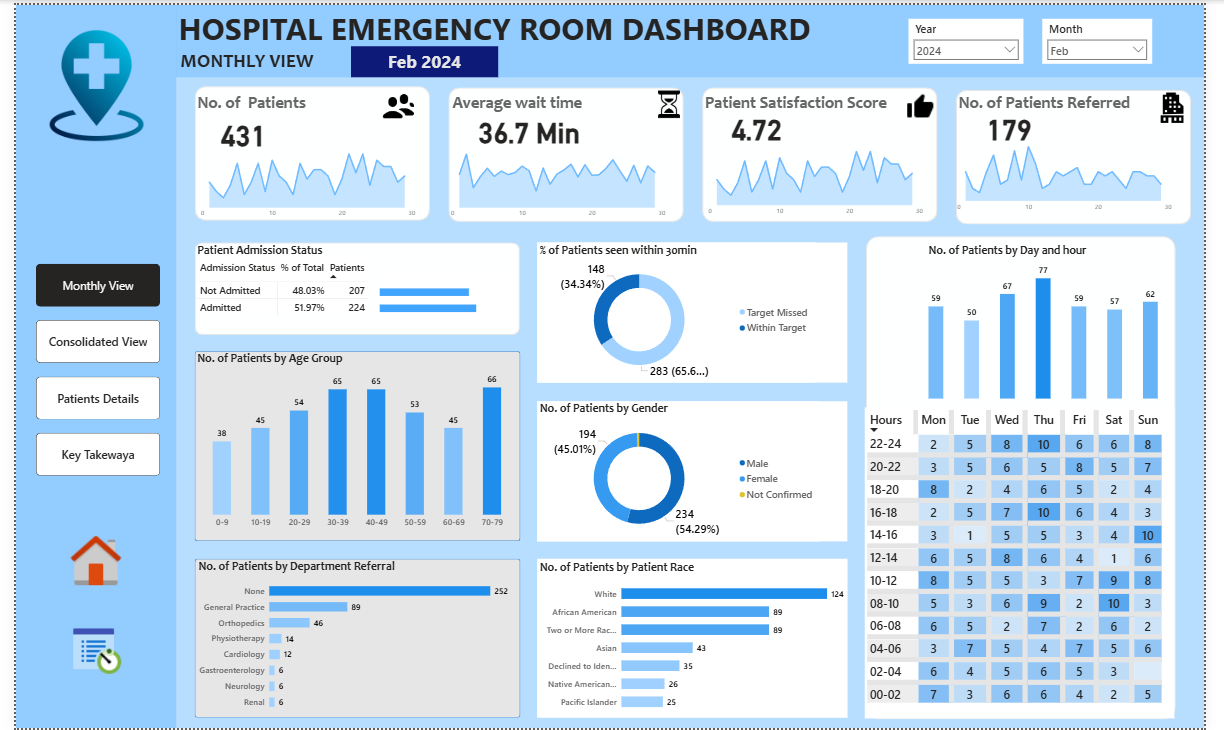

What the dashboard file says about the page in this screenshot:
{"tool":"powerbi","page":{"name":"Monthly View","canvas":[2300,1400],"ordinal":0},"visuals":[{"type":"shape","box":[0,0,310,1400.5],"z":0},{"type":"shape","box":[309.6,0,1990.7,140],"z":1000},{"type":"textbox","box":[309.6,0,1990.7,140.3],"z":2000},{"type":"textbox","box":[309.6,79.8,287.8,60.5],"z":3000},{"type":"shape","box":[345,157.5,455,260],"z":4000},{"type":"card","fields":{"Values":["Hospital ER_Data.No. of Patients"]},"box":[265,115,347.5,260],"z":5000},{"type":"slicer","fields":{"Values":["Date Table.Year"]},"box":[1727.5,27.5,222.5,87.5],"z":6000},{"type":"slicer","fields":{"Values":["Date Table.Month"]},"box":[1985,27.5,212.5,87.5],"z":7000},{"type":"textbox","box":[345,165,302.5,110],"z":8000},{"type":"areaChart","fields":{"Category":["Date Table.Date.Variation.Date Hierarchy.Day"],"Y":["Hospital ER_Data.No. of Patients"]},"box":[345,257.5,435,165],"z":9000},{"type":"card","fields":{"Values":["Min(Date Table.Month and Year)"]},"box":[647.5,80,285,60],"z":10000},{"type":"shape","box":[836.7,160,455,260],"z":11000},{"type":"textbox","box":[840,165,302.5,117.5],"z":12000},{"type":"areaChart","fields":{"Category":["Date Table.Date.Variation.Date Hierarchy.Day"],"Y":["Avg(Hospital ER_Data.Patient Waittime)"]},"box":[829,255.5,435,165],"z":13000},{"type":"shape","box":[1328.3,160,455,260],"z":14000},{"type":"textbox","box":[1327.5,165,400,55],"z":15000},{"type":"areaChart","fields":{"Category":["Date Table.Date.Variation.Date Hierarchy.Day"],"Y":["Hospital ER_Data.No. of Patients"]},"box":[1327.5,252.5,435,165],"z":16000},{"type":"shape","box":[1820,165,455,260],"z":17000},{"type":"textbox","box":[1820,165,360,60],"z":18000},{"type":"areaChart","fields":{"Category":["Date Table.Date.Variation.Date Hierarchy.Day"],"Y":["Hospital ER_Data.No. of Patients Referred"]},"box":[1810,245,435,165],"z":19000},{"type":"card","fields":{"Values":["Hospital ER_Data.Avg Wait Time"]},"box":[880,192.5,225,95],"z":20000},{"type":"card","fields":{"Values":["Hospital ER_Data.Satisfaction Score"]},"box":[1320,187.5,225,95],"z":21000},{"type":"card","fields":{"Values":["Hospital ER_Data.No. of Patients Referred"]},"box":[1810,187.5,225,95],"z":22000},{"type":"shape","box":[345.9,459.6,628.9,179],"z":23000},{"type":"barChart","fields":{"Category":["Hospital ER_Data.Admission Status"],"Y":["Hospital ER_Data.No. of Patients"]},"box":[700,520,260,97.5],"z":24000},{"type":"shape","box":[345,1072.5,630,307.5],"z":25000},{"type":"shape","box":[345,670,630,367.5],"z":26000},{"type":"clusteredColumnChart","fields":{"Category":["Hospital ER_Data.Age Group"],"Y":["Hospital ER_Data.No. of Patients"]},"box":[345,670,630,352.5],"z":27000},{"type":"clusteredBarChart","fields":{"Category":["Hospital ER_Data.Department Referral"],"Y":["Hospital ER_Data.No. of Patients"]},"box":[347.5,1072.5,612.5,305],"z":28000},{"type":"pivotTable","title":"Patient Admission Status","fields":{"Rows":["Hospital ER_Data.Admission Status"],"Values":["Hospital ER_Data.No. of Patients","Hospital ER_Data.No. of Patients1"]},"box":[1008.6,459.6,599.9,270.9],"z":29000},{"type":"pivotTable","title":"Patient Admission Status","fields":{"Rows":["Hospital ER_Data.Admission Status"],"Values":["Hospital ER_Data.No. of Patients","Hospital ER_Data.No. of Patients1"]},"box":[345.9,459.6,628.9,179],"z":30000},{"type":"donutChart","title":"% of Patients seen within 30min","fields":{"Category":["Hospital ER_Data.Wait Time Status"],"Y":["Hospital ER_Data.No. of Patients"]},"box":[1008.6,459.6,537,270.9],"z":31000},{"type":"pivotTable","title":"Patient Admission Status","fields":{"Rows":["Hospital ER_Data.Admission Status"],"Values":["Hospital ER_Data.No. of Patients","Hospital ER_Data.No. of Patients1"]},"box":[1008.6,766.8,599.9,270.9],"z":32000},{"type":"donutChart","title":"No. of Patients by Gender","fields":{"Y":["Hospital ER_Data.No. of Patients"],"Category":["Hospital ER_Data.Patient Gender"]},"box":[1008.6,766.8,546.7,270.9],"z":33000},{"type":"pivotTable","title":"Patient Admission Status","fields":{"Rows":["Hospital ER_Data.Admission Status"],"Values":["Hospital ER_Data.No. of Patients","Hospital ER_Data.No. of Patients1"]},"box":[1008.6,1071.5,599.9,307.2],"z":34000},{"type":"shape","box":[1644.6,446.3,599.2,934.5],"z":35000},{"type":"clusteredBarChart","fields":{"Category":["Hospital ER_Data.Patient Race"],"Y":["Hospital ER_Data.No. of Patients"]},"box":[1008.6,1074,599.9,304.8],"z":36000},{"type":"pivotTable","fields":{"Rows":["Hospital ER_Data.Waittime Interval"],"Columns":["Date Table.Day Name"],"Values":["Hospital ER_Data.No. of Patients"]},"box":[1642.2,779.2,599.2,601.6],"z":37000},{"type":"columnChart","title":"No. of Patients by Day and hour","fields":{"Category":["Date Table.Day Name"],"Y":["Hospital ER_Data.No. of Patients"]},"box":[1760.5,458.6,456.2,308.2],"z":38000},{"type":"image","box":[36.3,43.5,239.5,224.9],"z":39000},{"type":"pageNavigator","box":[37.5,500,240,412.5],"z":40000},{"type":"image","box":[1231.2,157.2,65,70],"z":41000},{"type":"image","box":[699,159.6,82.2,75],"z":41001},{"type":"image","box":[1717.4,162.1,65.3,70.1],"z":41002},{"type":"image","box":[2198.7,159.6,77,78],"z":41003},{"type":"image","box":[96.8,1180.4,120.9,140.3],"z":41004},{"type":"image","box":[94.3,1008.6,120.9,140.3],"z":41005}]}

Visuals, with their boxes in screenshot pixels (x1, y1, x2, y2), scaled from the page's 2300x1400 canvas onto the 1224x730 screenshot:
shape: rect(0, 0, 165, 729)
shape: rect(165, 0, 1223, 73)
textbox: rect(165, 0, 1223, 73)
textbox: rect(165, 42, 318, 73)
shape: rect(184, 82, 426, 218)
card - Hospital ER_Data.No. of Patients: rect(141, 60, 326, 196)
slicer - Date Table.Year: rect(919, 14, 1038, 60)
slicer - Date Table.Month: rect(1056, 14, 1169, 60)
textbox: rect(184, 86, 345, 143)
areaChart - Date Table.Date.Variation.Date Hierarchy.Day x Hospital ER_Data.No. of Patients: rect(184, 134, 415, 220)
card - Min(Date Table.Month and Year): rect(345, 42, 496, 73)
shape: rect(445, 83, 687, 219)
textbox: rect(447, 86, 608, 147)
areaChart - Date Table.Date.Variation.Date Hierarchy.Day x Avg(Hospital ER_Data.Patient Waittime): rect(441, 133, 673, 219)
shape: rect(707, 83, 949, 219)
textbox: rect(706, 86, 919, 115)
areaChart - Date Table.Date.Variation.Date Hierarchy.Day x Hospital ER_Data.No. of Patients: rect(706, 132, 938, 218)
shape: rect(969, 86, 1211, 222)
textbox: rect(969, 86, 1160, 117)
areaChart - Date Table.Date.Variation.Date Hierarchy.Day x Hospital ER_Data.No. of Patients Referred: rect(963, 128, 1195, 214)
card - Hospital ER_Data.Avg Wait Time: rect(468, 100, 588, 150)
card - Hospital ER_Data.Satisfaction Score: rect(702, 98, 822, 147)
card - Hospital ER_Data.No. of Patients Referred: rect(963, 98, 1083, 147)
shape: rect(184, 240, 519, 333)
barChart - Hospital ER_Data.Admission Status x Hospital ER_Data.No. of Patients: rect(373, 271, 511, 322)
shape: rect(184, 559, 519, 720)
shape: rect(184, 349, 519, 541)
clusteredColumnChart - Hospital ER_Data.Age Group x Hospital ER_Data.No. of Patients: rect(184, 349, 519, 533)
clusteredBarChart - Hospital ER_Data.Department Referral x Hospital ER_Data.No. of Patients: rect(185, 559, 511, 718)
"Patient Admission Status" pivotTable: rect(537, 240, 856, 381)
"Patient Admission Status" pivotTable: rect(184, 240, 519, 333)
"% of Patients seen within 30min" donutChart: rect(537, 240, 823, 381)
"Patient Admission Status" pivotTable: rect(537, 400, 856, 541)
"No. of Patients by Gender" donutChart: rect(537, 400, 828, 541)
"Patient Admission Status" pivotTable: rect(537, 559, 856, 719)
shape: rect(875, 233, 1194, 720)
clusteredBarChart - Hospital ER_Data.Patient Race x Hospital ER_Data.No. of Patients: rect(537, 560, 856, 719)
pivotTable - Hospital ER_Data.Waittime Interval x Date Table.Day Name: rect(874, 406, 1193, 720)
"No. of Patients by Day and hour" columnChart: rect(937, 239, 1180, 400)
image: rect(19, 23, 147, 140)
pageNavigator: rect(20, 261, 148, 476)
image: rect(655, 82, 690, 118)
image: rect(372, 83, 416, 122)
image: rect(914, 85, 949, 121)
image: rect(1170, 83, 1211, 124)
image: rect(52, 615, 116, 689)
image: rect(50, 526, 115, 599)
